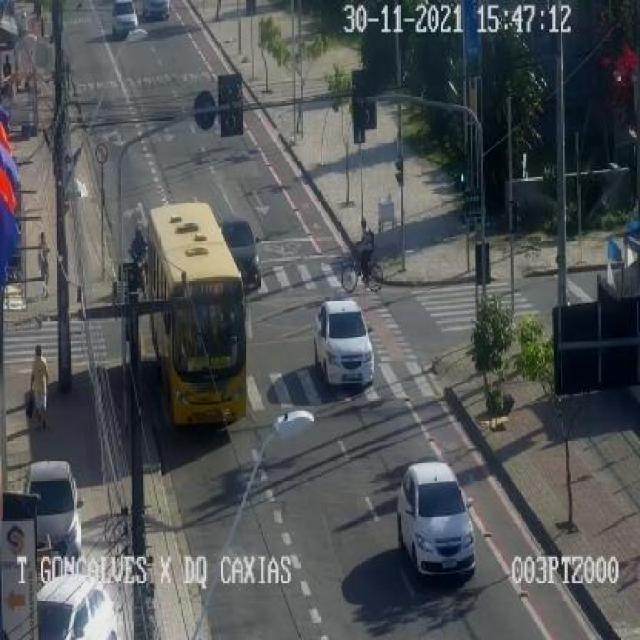Bus: (142, 202, 248, 424)
Car: (400, 462, 478, 578), (24, 461, 84, 561), (314, 300, 374, 388), (36, 575, 119, 638), (111, 0, 139, 38)
